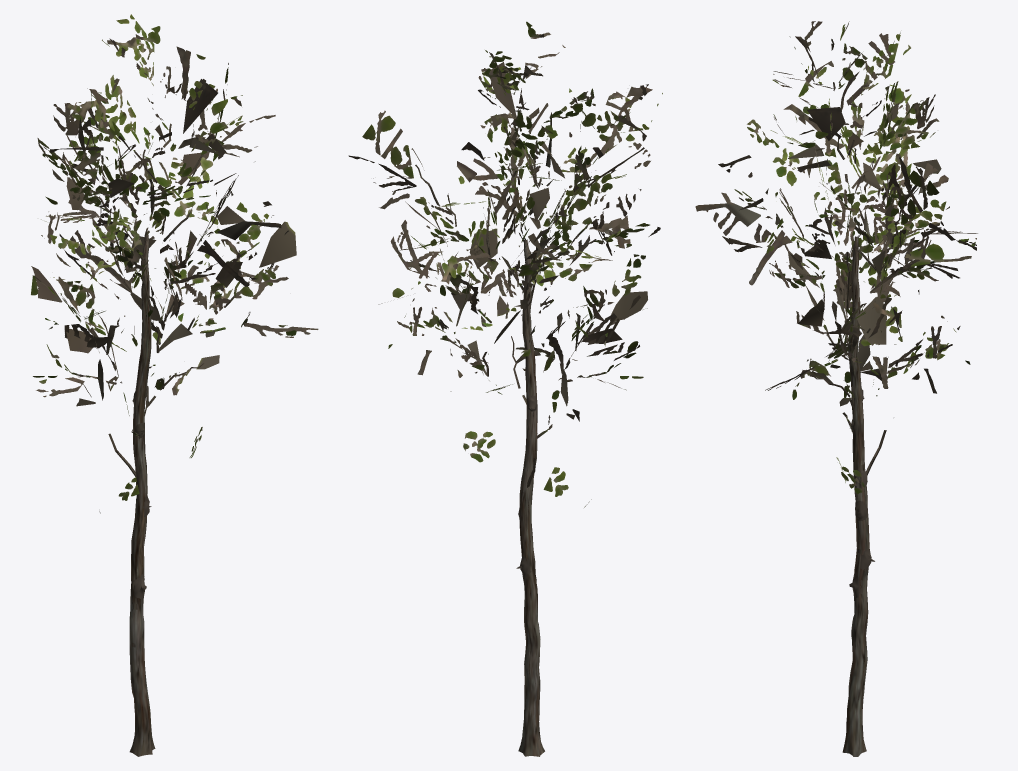
Rendered from SM_BlackAlder_Forest_08_PP_LOD2.gltf.
3 renders of one model, left to right at view 1: azimuth 30°, elevation 25°; view 2: azimuth 150°, elevation 25°; view 3: azimuth 270°, elevation 25°, orthographic.
Parts seen in each view (by area): view 1: SM_BlackAlder_Forest_08_PP; view 2: SM_BlackAlder_Forest_08_PP; view 3: SM_BlackAlder_Forest_08_PP.
Part boxes in pixels (x1,y1,x2,y2): SM_BlackAlder_Forest_08_PP: (31, 14, 318, 756); SM_BlackAlder_Forest_08_PP: (348, 21, 662, 756); SM_BlackAlder_Forest_08_PP: (695, 21, 977, 756).
Bounding box in the file's own units: 3.11 × 7.36 × 2.81.
Materials: 3 (3 with a texture image).
